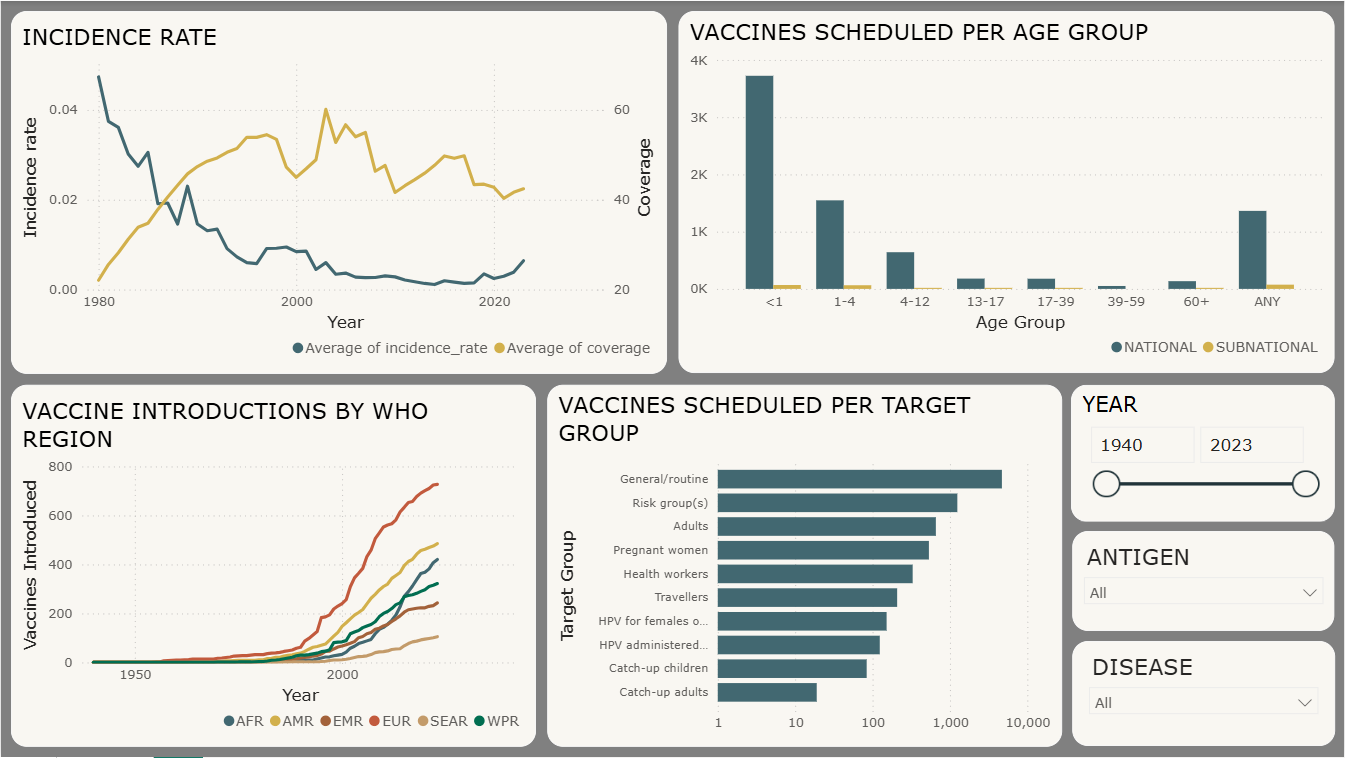

Layout of this report page (visuals, bound fields, positions):
{"tool":"powerbi","page":{"name":"Page 2","canvas":[1280,720],"ordinal":1},"visuals":[{"type":"lineChart","title":"INCIDENCE RATE","fields":{"Y":["Avg(public incidence_rate.incidence_rate)"],"Y2":["Avg(public coverage.coverage)"],"Category":["YEARS.Value"]},"box":[9.6,9.6,625,345.8],"z":0},{"type":"lineChart","title":"VACCINE INTRODUCTIONS BY WHO REGION","fields":{"Category":["YEARS.Value"],"Y":["Sum(public vaccine_introduction.introduced)"],"Series":["public region.who_region"]},"box":[10,365,500,345],"z":1000},{"type":"slicer","fields":{"Values":["public incidence_rate.disease"]},"box":[1020,610,250,100],"z":2000},{"type":"clusteredBarChart","title":"VACCINES SCHEDULED PER TARGET GROUP","fields":{"Y":["Count(public vaccine_schedule.id)"],"Category":["public vaccine_schedule.targetpop_description"]},"box":[520.1,365,490,345],"z":2001},{"type":"clusteredColumnChart","title":"VACCINES SCHEDULED PER AGE GROUP","fields":{"Y":["Count(public vaccine_schedule.id)"],"Series":["public vaccine_schedule.geoarea"],"Category":["Age_Groups.age"]},"box":[645,9.6,625,345],"z":2002},{"type":"slicer","title":"YEAR","fields":{"Values":["YEARS.Value"]},"box":[1019.4,365,250.9,130],"z":2003},{"type":"slicer","fields":{"Values":["public coverage.antigen"]},"box":[1020.6,505,249.7,95],"z":2004}]}

Visuals, with their boxes in screenshot pixels (x1, y1, x2, y2), scaled from the page's 1280x720 canvas onto the 1345x758 screenshot:
"INCIDENCE RATE" lineChart: 10, 10, 667, 374
"VACCINE INTRODUCTIONS BY WHO REGION" lineChart: 11, 384, 536, 747
slicer - public incidence_rate.disease: 1072, 642, 1334, 747
"VACCINES SCHEDULED PER TARGET GROUP" clusteredBarChart: 547, 384, 1061, 747
"VACCINES SCHEDULED PER AGE GROUP" clusteredColumnChart: 678, 10, 1334, 373
"YEAR" slicer: 1071, 384, 1335, 521
slicer - public coverage.antigen: 1072, 532, 1335, 632
